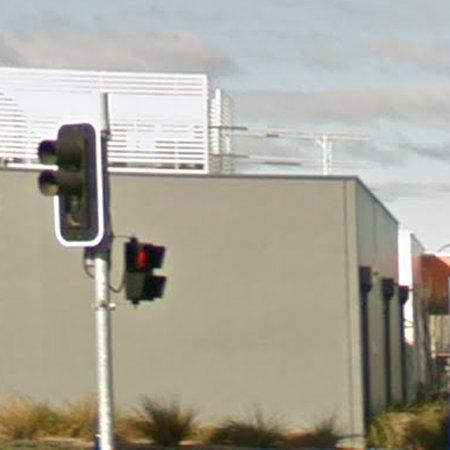traffic lights: (125, 238, 167, 305)
